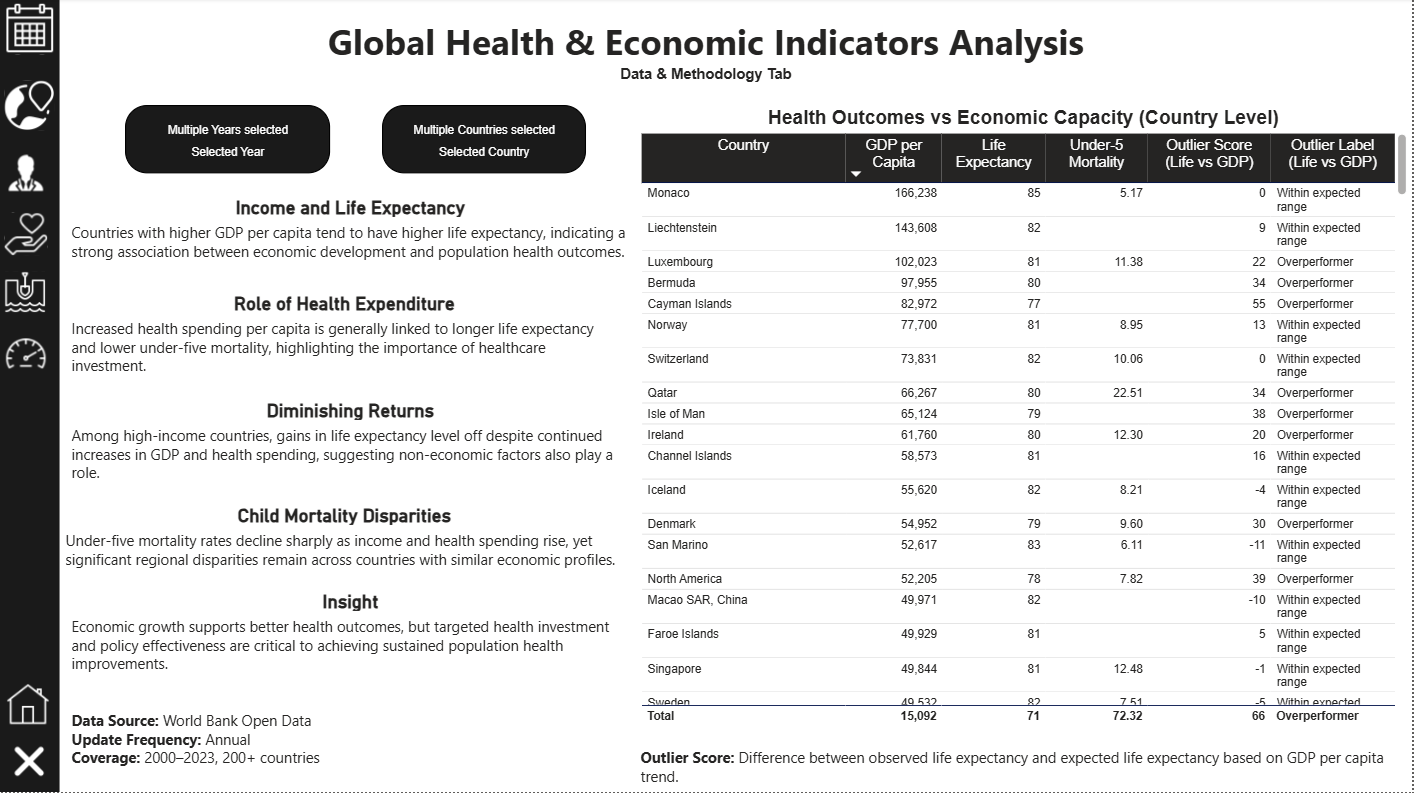

This screenshot's page, from the dashboard's own definition file:
{"tool":"powerbi","page":{"name":"Data & Methodology","canvas":[1280,720],"ordinal":5},"visuals":[{"type":"shape","title":"Side Bar","box":[0,0,54.1,720.1],"z":0},{"type":"textbox","title":"Report Name Text Box","box":[154,12,972,76],"z":1000},{"type":"actionButton","title":"Date Filter Button","box":[0,0,54.1,56],"z":2000},{"type":"actionButton","title":"Country Filter Button","box":[0,70,53,55],"z":3000},{"type":"card","title":"Selected Country Card","fields":{"Values":["Measure.Selected Country"]},"box":[346.7,97,185.3,62.1],"z":4000},{"type":"card","title":"Selected Year Card","fields":{"Values":["Measure.Selected Year"]},"box":[113.4,97,186.4,62.1],"z":5000},{"type":"actionButton","title":"Home page Button","box":[1.8,617.5,52.6,47.2],"z":6000},{"type":"actionButton","title":"Country Deep Dive Tab Button","box":[0,244.2,52.3,45.6],"z":7000},{"type":"actionButton","title":"Economic vs Health Correlation Tab Button","box":[0,190.5,52.3,47],"z":8000},{"type":"actionButton","title":"Indicator Trends Tab Button","box":[0,299.2,52.3,47],"z":9000},{"type":"textbox","title":"Child Mortality Disparities","box":[54.8,459.2,516,88.7],"z":10000},{"type":"textbox","title":"Diminishing Returns","box":[59.8,363.6,516,88.7],"z":11000},{"type":"textbox","title":"Role of Health Expenditure","box":[59.8,267,505,87.7],"z":12000},{"type":"textbox","title":"Data source","box":[59.8,641.5,516,65.7],"z":12500},{"type":"textbox","title":"Insight","box":[59.8,536.9,516,88.7],"z":13000},{"type":"actionButton","title":"Executive Summary Tab Button","box":[0,135.5,52.3,47],"z":14000},{"type":"textbox","title":"Income and Life Expectancy","box":[60,179.9,515.7,88.3],"z":15000},{"type":"tableEx","title":"Health Outcomes vs Economic Capacity (Country Level)","fields":{"Values":["dim_country.country_name","Measure.Average GDP per Capita","Measure.Average Life Expectancy","Measure.Average Under-5 Mortality","Measure.Outlier Score (Life vs GDP)","Measure.Outlier Label (Life vs GDP)"]},"box":[575.8,97.9,704.6,566.8],"z":16000},{"type":"actionButton","title":"Close Button","box":[0,665,53,55],"z":18000},{"type":"textbox","title":"Outlier Socre","box":[575.8,674.7,704.6,45.3],"z":21001}]}

Visuals, with their boxes on the page's 1280x720 design canvas (x1, y1, x2, y2). These are canvas units, not pixel positions in the 1414x793 screenshot, which may show the page scaled, cropped or inside an application window:
"Side Bar" shape: 0/0/54/720
"Report Name Text Box" textbox: 154/12/1126/88
"Date Filter Button" actionButton: 0/0/54/56
"Country Filter Button" actionButton: 0/70/53/125
"Selected Country Card" card: 347/97/532/159
"Selected Year Card" card: 113/97/300/159
"Home page Button" actionButton: 2/618/54/665
"Country Deep Dive Tab Button" actionButton: 0/244/52/290
"Economic vs Health Correlation Tab Button" actionButton: 0/190/52/238
"Indicator Trends Tab Button" actionButton: 0/299/52/346
"Child Mortality Disparities" textbox: 55/459/571/548
"Diminishing Returns" textbox: 60/364/576/452
"Role of Health Expenditure" textbox: 60/267/565/355
"Data source" textbox: 60/642/576/707
"Insight" textbox: 60/537/576/626
"Executive Summary Tab Button" actionButton: 0/136/52/182
"Income and Life Expectancy" textbox: 60/180/576/268
"Health Outcomes vs Economic Capacity (Country Level)" tableEx: 576/98/1280/665
"Close Button" actionButton: 0/665/53/720
"Outlier Socre" textbox: 576/675/1280/720
